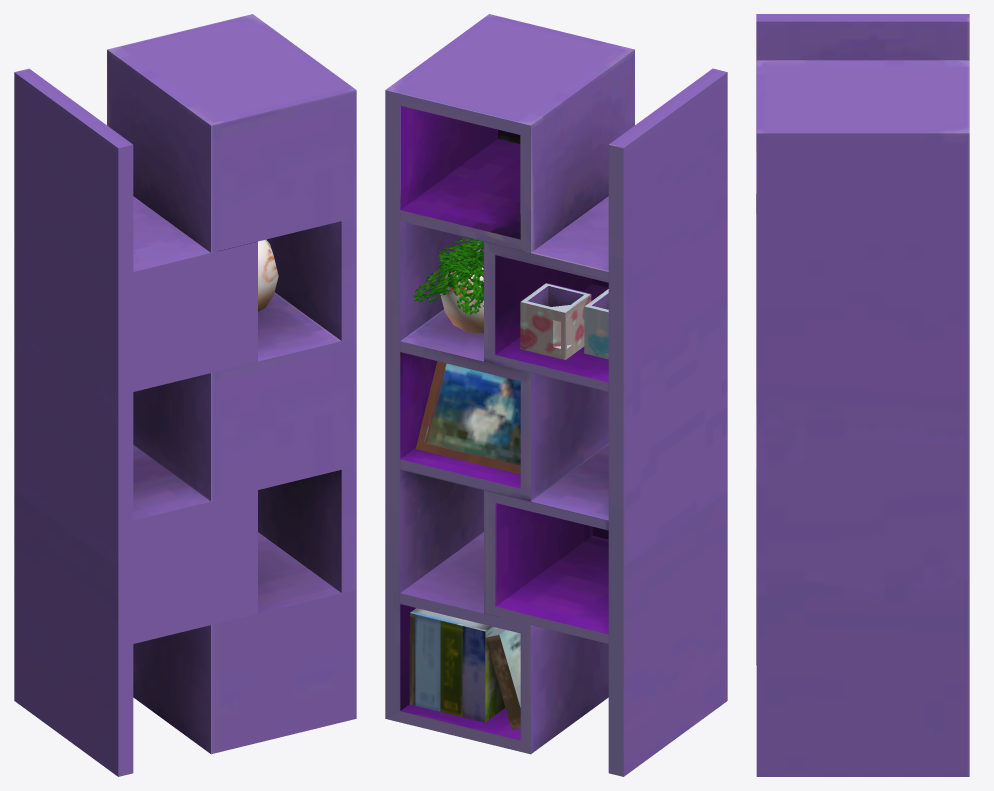
File: furni_0200515_03.FBX
3 renders of one model, left to right at view 1: azimuth 30°, elevation 25°; view 2: azimuth 150°, elevation 25°; view 3: azimuth 270°, elevation 25°, orthographic. The views are drawn at different scales.
Parts seen in each view (by area): view 1: furni_0200515_03; view 2: furni_0200515_03; view 3: furni_0200515_03.
Boxes of the visible parts, <box> form: furni_0200515_03: <box>14,14,356,776</box>; furni_0200515_03: <box>385,14,727,776</box>; furni_0200515_03: <box>756,14,969,776</box>.
Bounding box in the file's own units: 79.4 × 200 × 62.79.
Materials: 1 (1 with a texture image).
